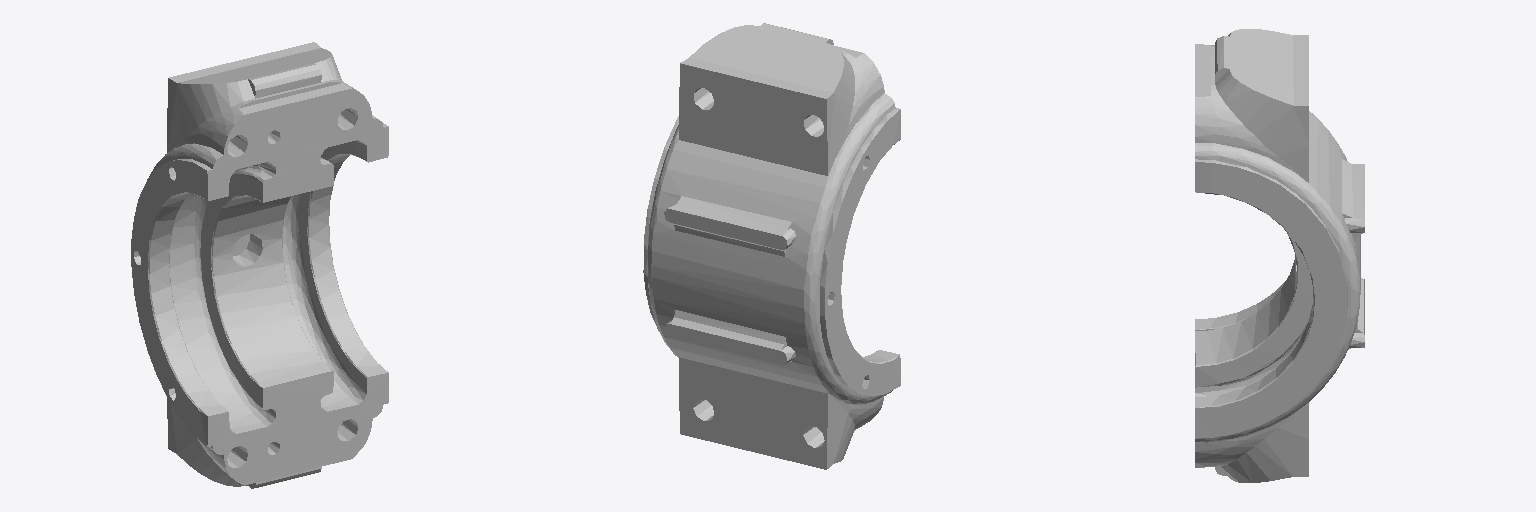
Rendered from Bearing Cover.obj.
3 renders of one model, left to right at view 1: azimuth 30°, elevation 25°; view 2: azimuth 150°, elevation 25°; view 3: azimuth 270°, elevation 25°, orthographic.
Visible parts, largest first — view 1: imagetostl_mesh0; view 2: imagetostl_mesh0; view 3: imagetostl_mesh0.
Part boxes in pixels (x1,y1,x2,y2): imagetostl_mesh0: (131,42,388,488); imagetostl_mesh0: (643,23,900,469); imagetostl_mesh0: (1195,29,1364,482).
Bounding box in the file's own units: 165 × 355 × 133.